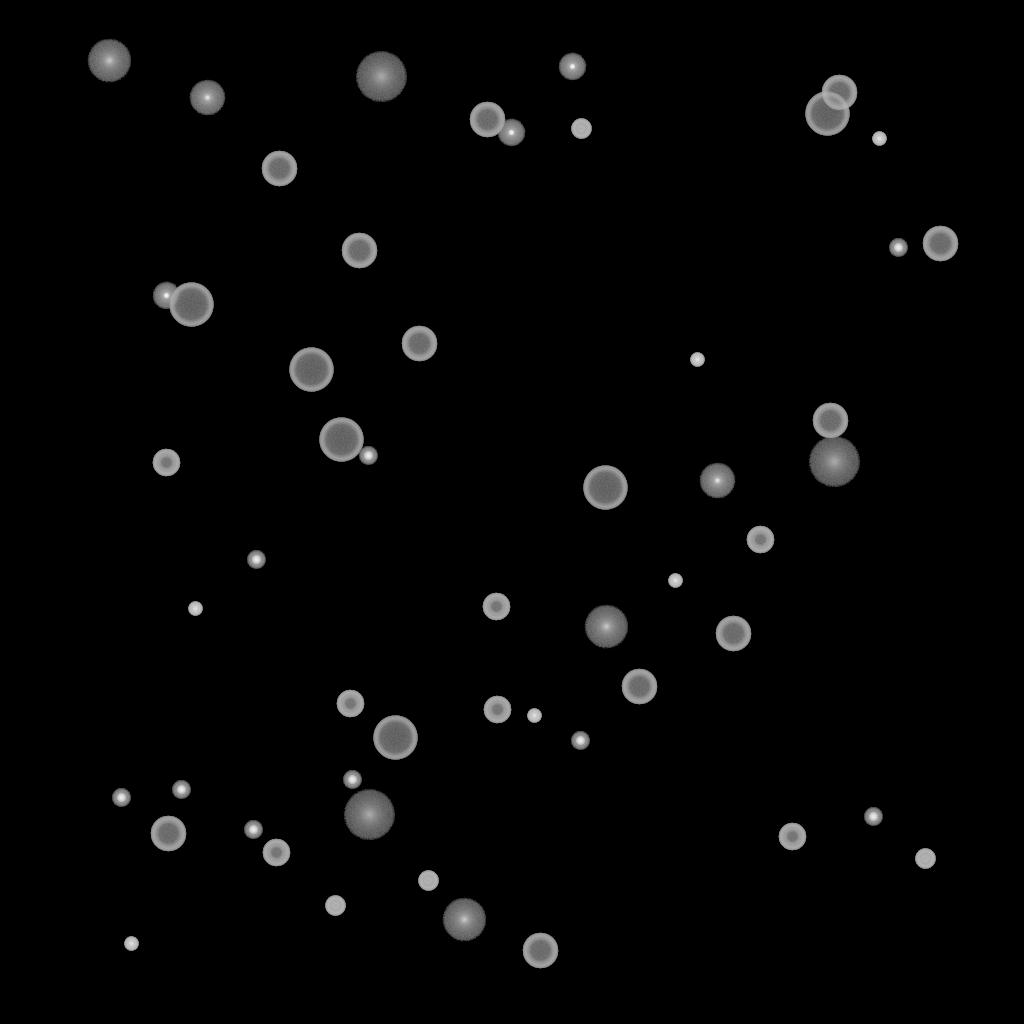depth:-10: (497, 119, 525, 147), (152, 282, 180, 310), (558, 53, 586, 81)
depth:-20: (247, 551, 265, 569), (571, 732, 589, 750), (889, 239, 907, 257), (359, 447, 377, 465), (172, 781, 190, 799), (244, 821, 262, 839), (864, 808, 882, 826), (343, 771, 361, 789), (112, 789, 130, 807)
depth:-30: (872, 132, 886, 146), (527, 709, 541, 723), (188, 602, 202, 616), (124, 937, 138, 951), (690, 353, 704, 367), (668, 574, 682, 588)
depth:-40: (915, 849, 935, 869), (325, 896, 345, 916), (571, 119, 591, 139), (418, 871, 438, 891)
depth:-50: (262, 839, 290, 867), (778, 823, 806, 851), (482, 593, 510, 621), (746, 526, 774, 554), (483, 696, 511, 724), (152, 449, 180, 477), (336, 690, 364, 718)
depth:-60: (401, 326, 437, 362), (621, 669, 657, 705), (522, 933, 558, 969), (922, 226, 958, 262), (715, 616, 751, 652), (812, 403, 848, 439), (261, 151, 297, 187), (469, 102, 505, 138), (150, 816, 186, 852), (821, 75, 857, 111), (341, 233, 377, 269)
depth:-70: (169, 283, 213, 327), (583, 466, 627, 510), (373, 716, 417, 760), (319, 418, 363, 462), (805, 92, 849, 136), (289, 348, 333, 392)
depth:0: (189, 80, 225, 116), (699, 463, 735, 499)
depth:10: (87, 39, 131, 83), (584, 605, 628, 649), (442, 898, 486, 942)
depth:20: (355, 52, 407, 102), (808, 437, 860, 487), (343, 790, 395, 840)
